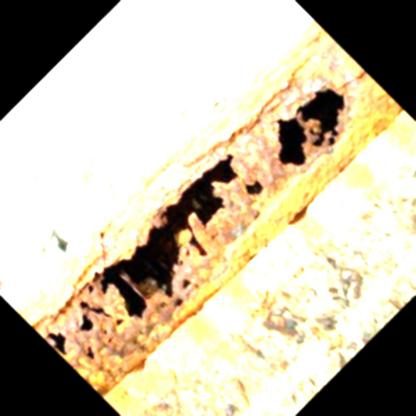burst: (86, 141, 251, 332), (276, 94, 365, 174)
